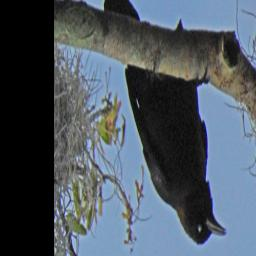Crow: (103, 0, 227, 244)
